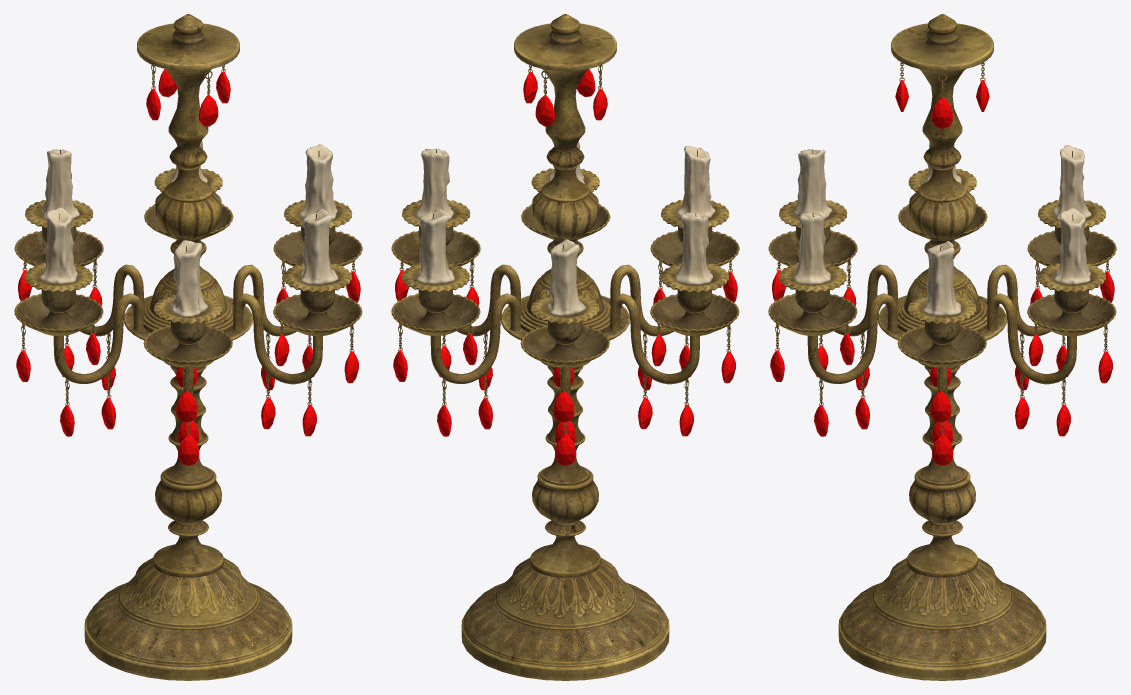
File: chandelier.fbx
3 renders of one model, left to right at view 1: azimuth 30°, elevation 25°; view 2: azimuth 150°, elevation 25°; view 3: azimuth 270°, elevation 25°, orthographic.
Parts seen in each view (by area): view 1: base_low; view 2: base_low; view 3: base_low.
Boxes of the visible parts, x1=… form: base_low: x1=14, y1=14, x2=362, y2=680; base_low: x1=391, y1=14, x2=739, y2=680; base_low: x1=768, y1=14, x2=1116, y2=680.
Size of the model in its own units: 350 by 610 by 310.
4 materials, 3 textured.
